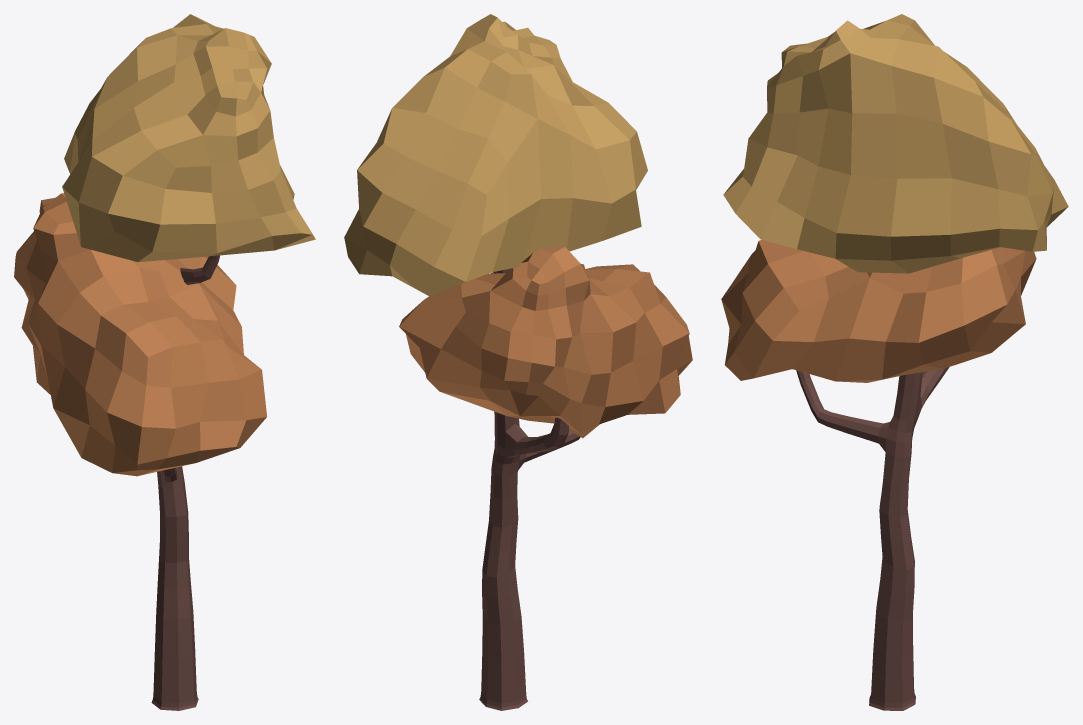
Rendered from commontree_autumn_3.glb.
3 renders of one model, left to right at view 1: azimuth 30°, elevation 25°; view 2: azimuth 150°, elevation 25°; view 3: azimuth 270°, elevation 25°, orthographic. The views are drawn at different scales.
Parts seen in each view (by area): view 1: CommonTree_Autumn_3; view 2: CommonTree_Autumn_3; view 3: CommonTree_Autumn_3.
Boxes of the visible parts, x1,y1,x2,y2 form: CommonTree_Autumn_3: (14,14,315,710); CommonTree_Autumn_3: (344,14,692,710); CommonTree_Autumn_3: (721,14,1068,710).
Bounding box in the file's own units: 3.06 × 8.3 × 3.75.
